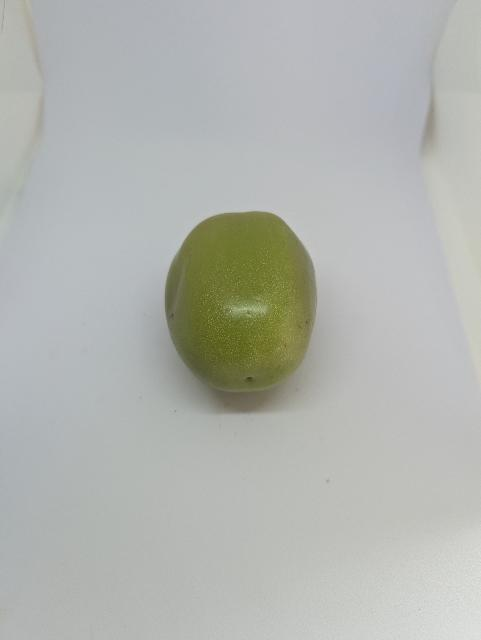green: (158, 190, 332, 420)
